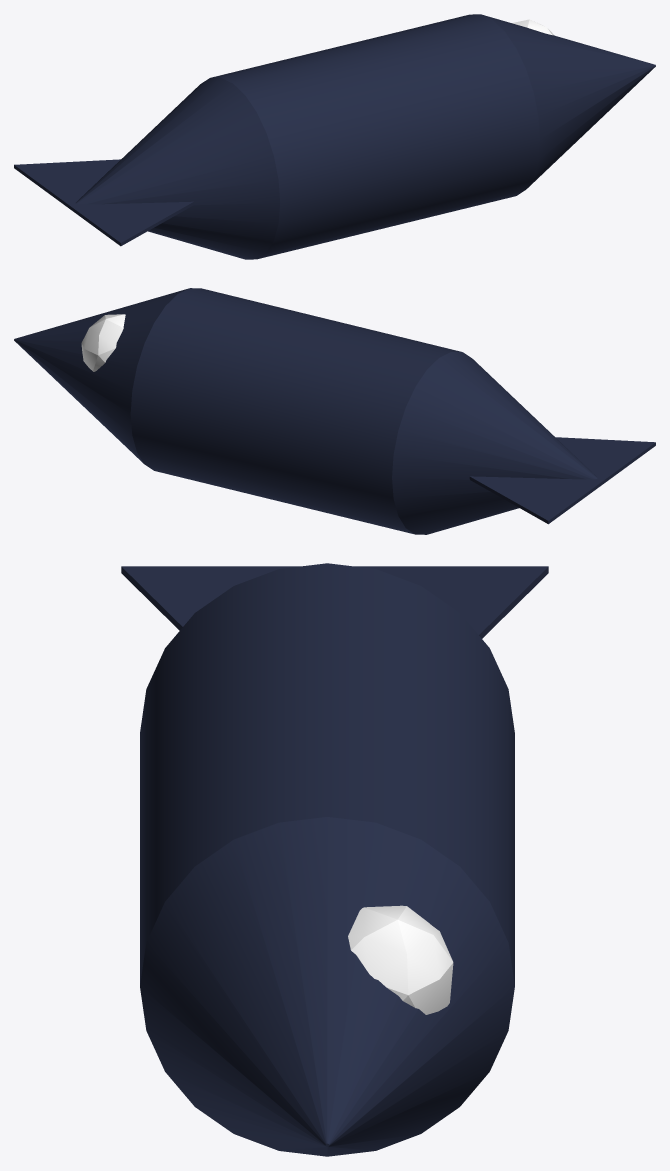
The model's file is fish.fbx.
The picture shows the model from 3 angles, top to bottom: view 1: azimuth 30°, elevation 25°; view 2: azimuth 150°, elevation 25°; view 3: azimuth 270°, elevation 25°; orthographic projection. The views are drawn at different scales.
Parts seen in each view (by area): view 1: cylinder, cone (×2), blockTriangle (×2); view 2: cylinder, cone (×2), blockTriangle (×2), icosphere_half; view 3: cylinder, cone, blockTriangle (×2), icosphere_half.
Part boxes in pixels (box(x1,y1,x2,y2)): cylinder: box(210, 14, 539, 259); cone (×2): box(75, 14, 655, 259); blockTriangle (×2): box(14, 159, 193, 246); cylinder: box(130, 288, 461, 534); cone (×2): box(14, 288, 597, 534); blockTriangle (×2): box(469, 437, 655, 524); icosphere_half: box(81, 314, 125, 371); cylinder: box(140, 563, 514, 985); cone: box(140, 817, 514, 1156); blockTriangle (×2): box(121, 566, 548, 638); icosphere_half: box(348, 905, 453, 1014).
Bounding box in the file's own units: 36.1 × 10 × 11.4.
